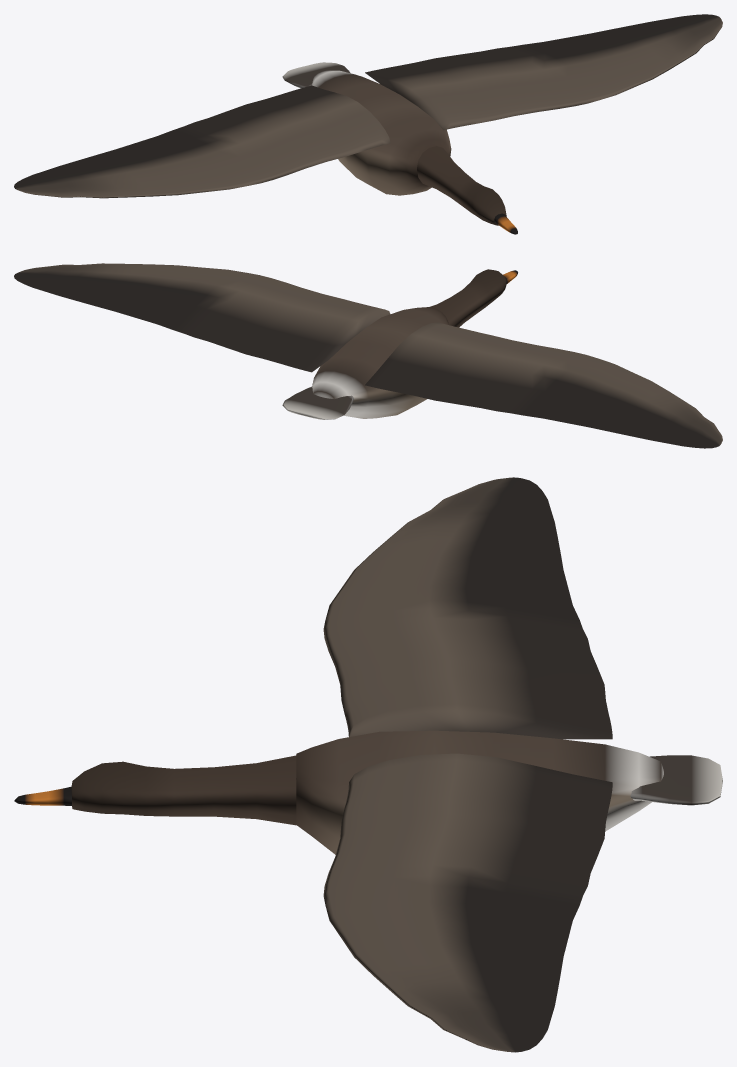
The model's file is grainfields-goose.glb.
3 views of the same model, one above another, from view 1: azimuth 30°, elevation 25°; view 2: azimuth 150°, elevation 25°; view 3: azimuth 270°, elevation 25° (orthographic). The views are drawn at different scales.
Visible parts, largest first — view 1: goose; view 2: goose; view 3: goose.
Boxes of the visible parts, <box> form: goose: <box>14,14,722,234</box>; goose: <box>14,263,722,448</box>; goose: <box>14,477,722,1052</box>.
Size of the model in its own units: 1.6 by 0.1786 by 0.836.
